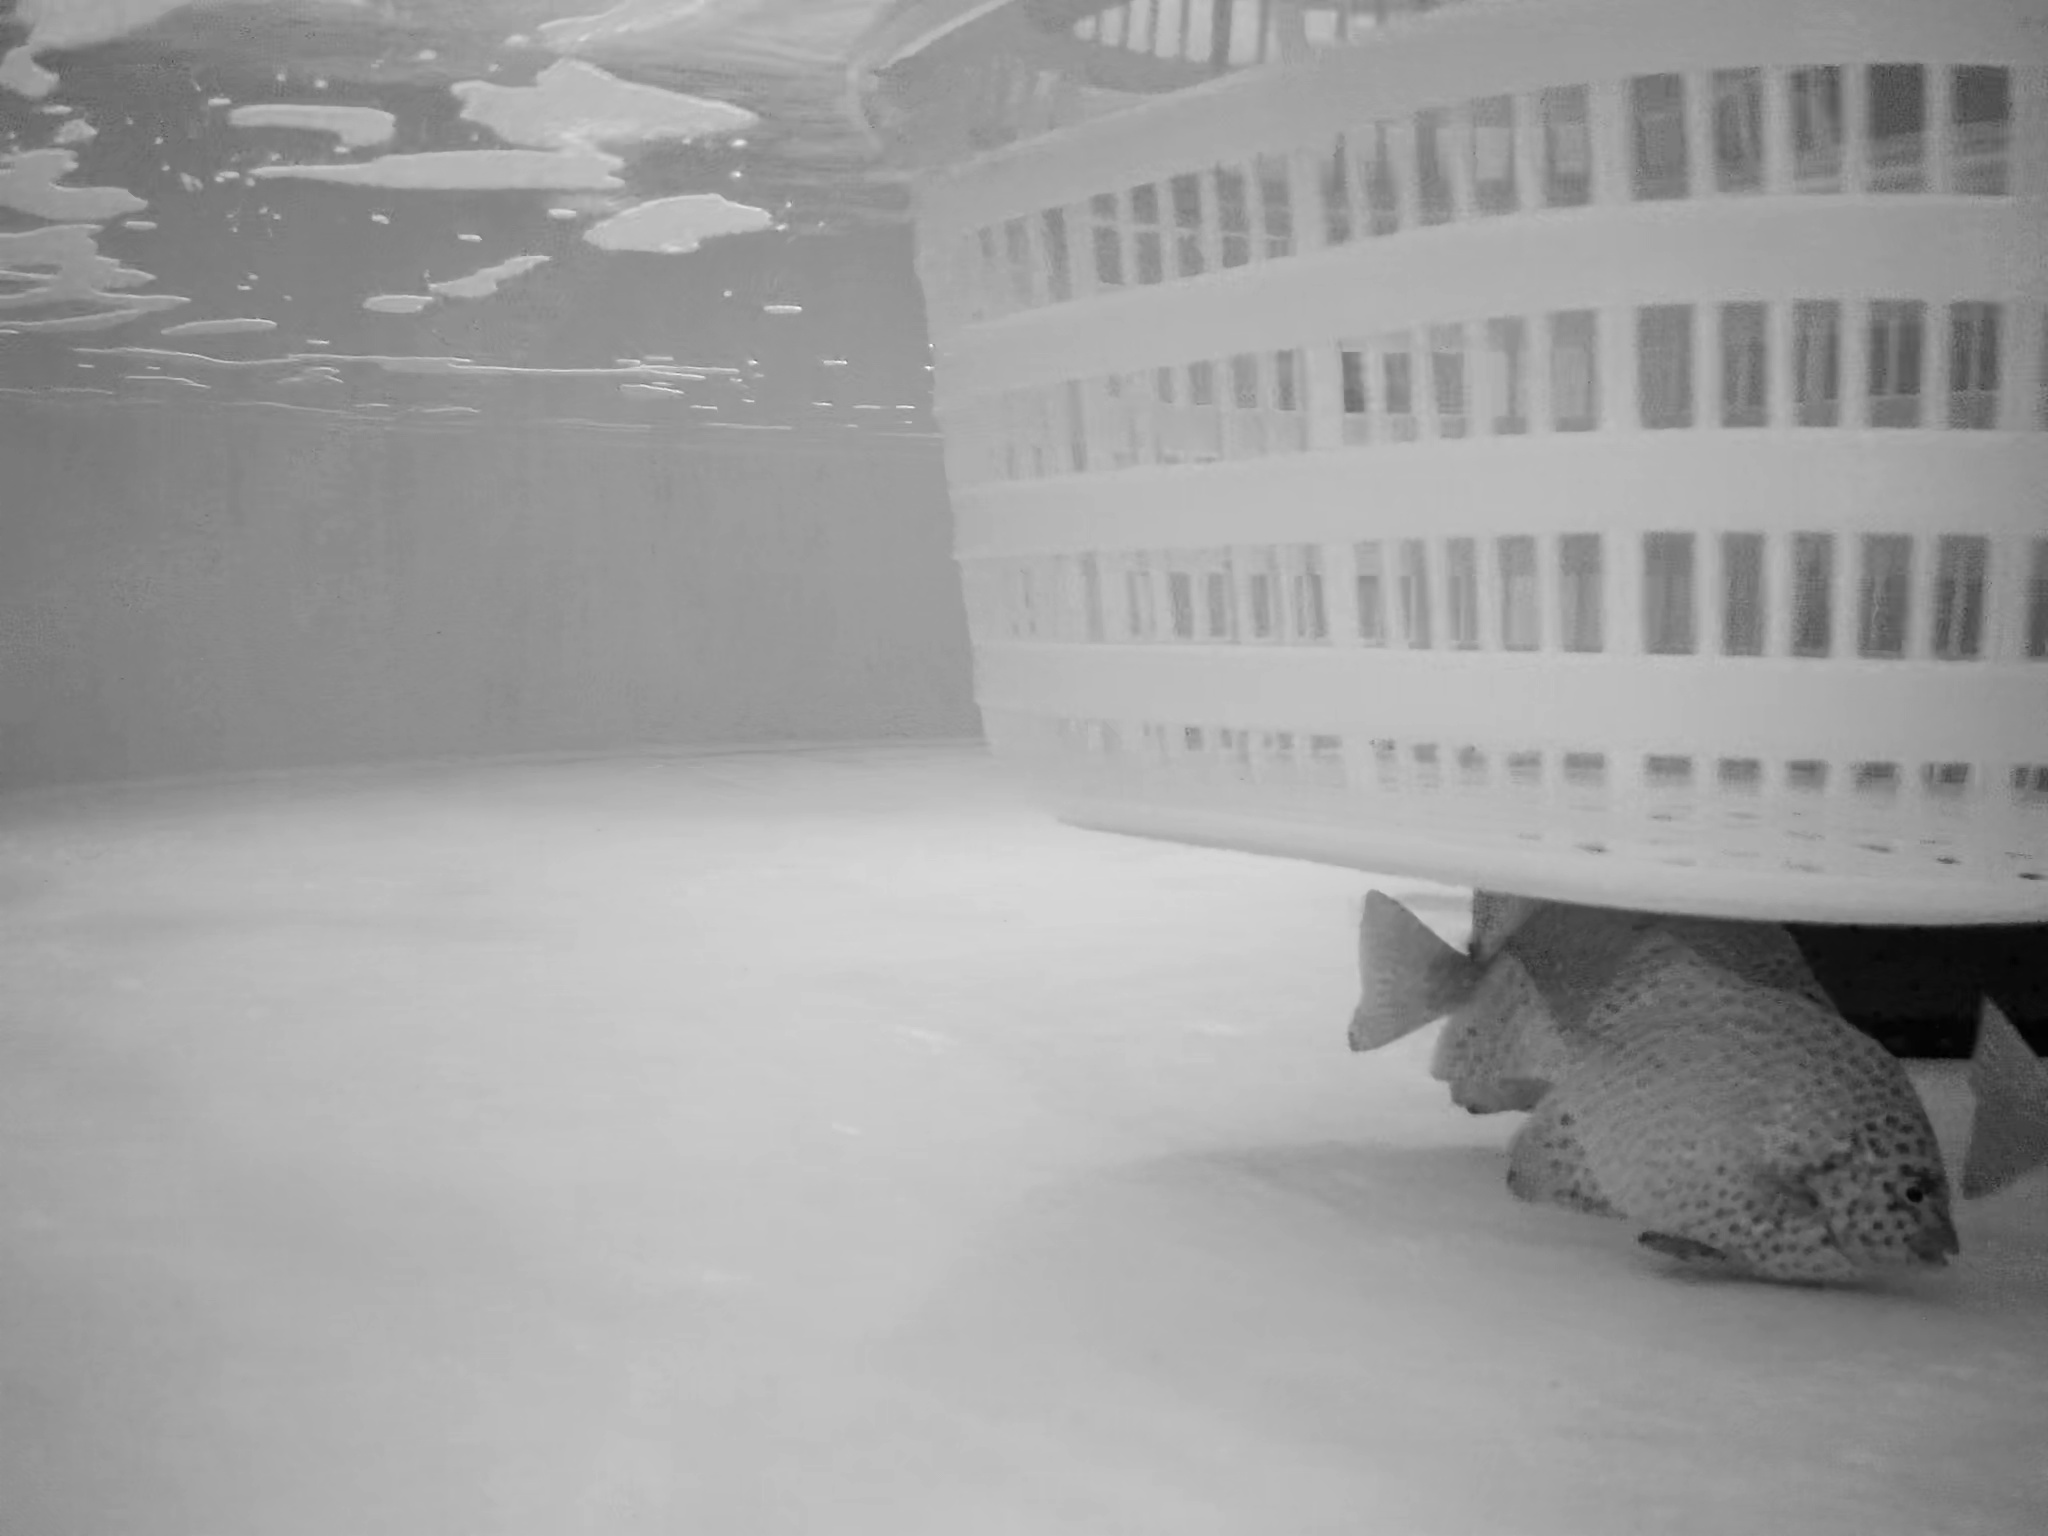fish: (1447, 945, 1966, 1279), (1355, 857, 1827, 1094), (1966, 994, 2048, 1210)
